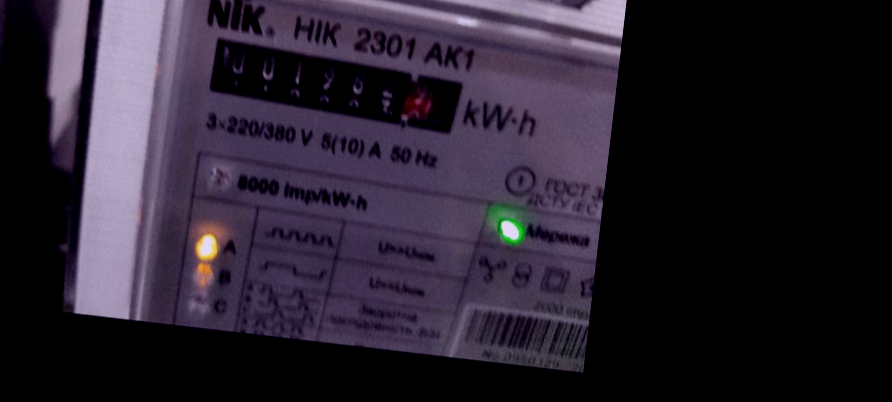0: (258, 53, 279, 84), (229, 46, 248, 77)
1: (290, 56, 305, 87)
2: (379, 70, 400, 101)
8: (349, 67, 369, 97)
9: (409, 79, 433, 110), (319, 63, 337, 93)
screen: (190, 23, 480, 150)
